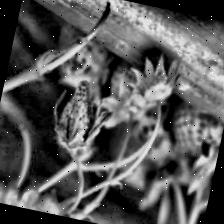Gray Mold: (42, 75, 119, 170)
